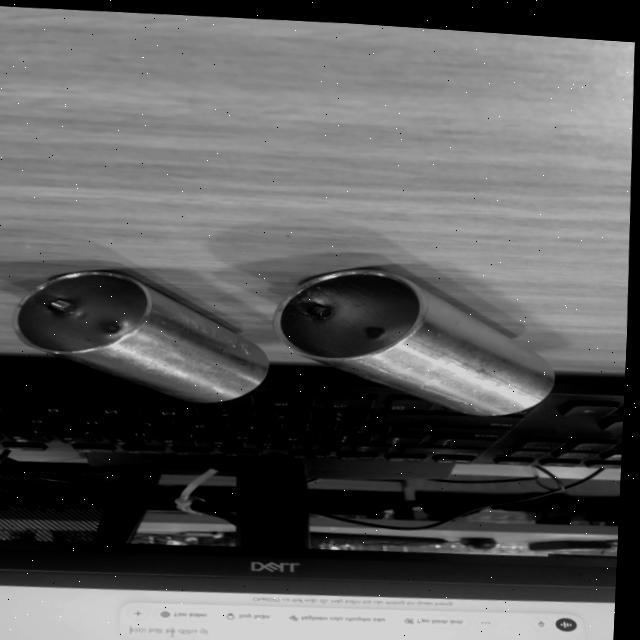Co_Lon: (264, 241, 569, 438)
Co_Nho: (5, 247, 282, 421)
